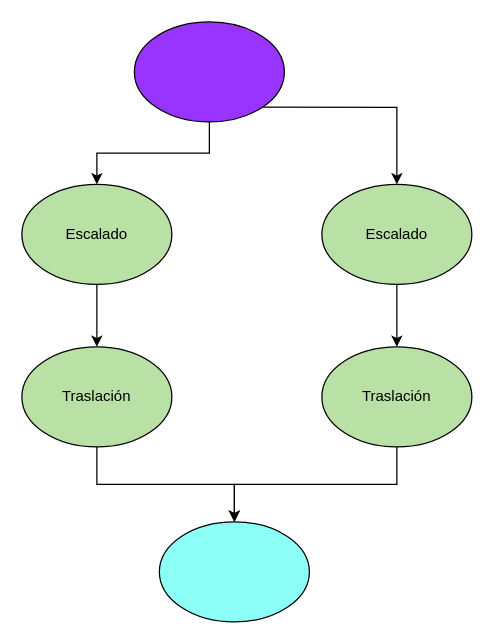
This 494x644 diagram has some shape labels left out. The shapes that lost their labels are listed below. From the top down, each one's centre as x and y in pixels, then its label:
[208,71]: Pierna
[233,571]: Cubo
